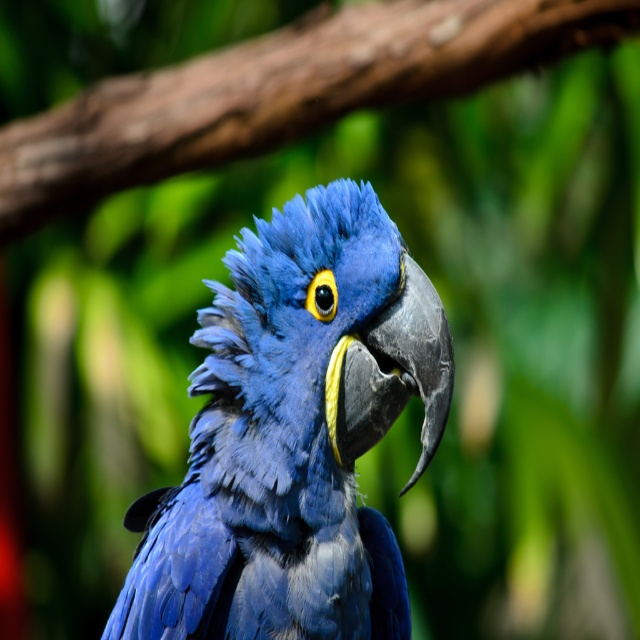Parrot: (100, 176, 457, 639)
